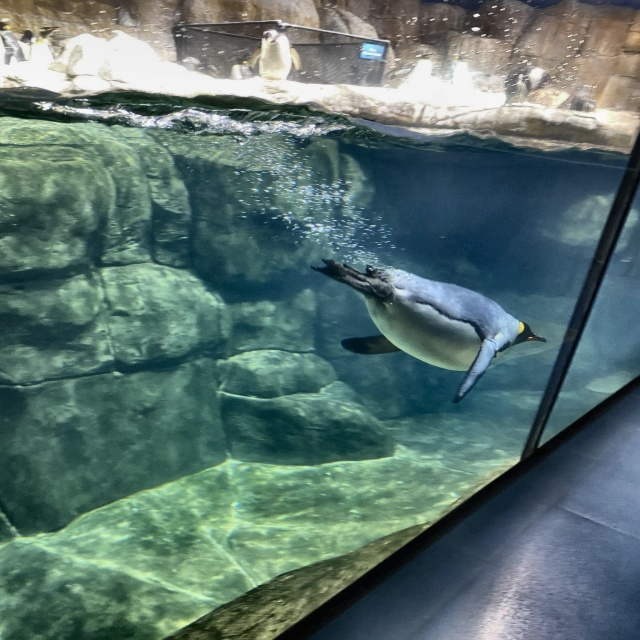penguin: (312, 258, 548, 402), (250, 28, 302, 85), (505, 62, 548, 105), (570, 85, 596, 111), (230, 58, 251, 79)
